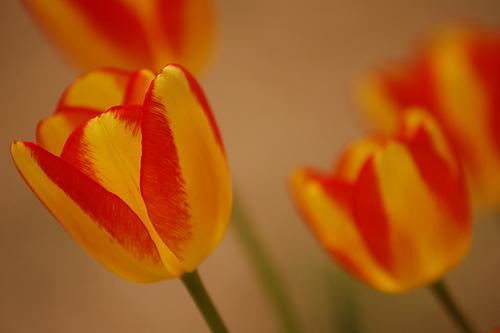tulip: (13, 62, 233, 285), (291, 110, 477, 292)
